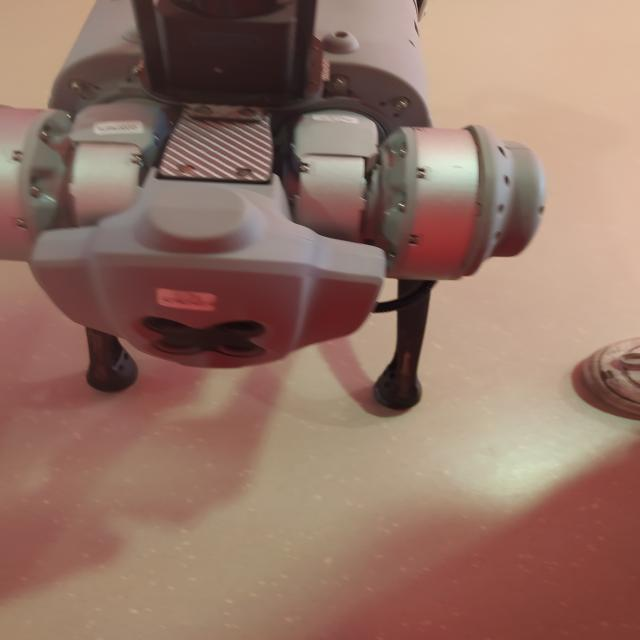unitree-go1-robot: (3, 1, 562, 427)
